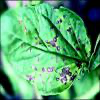Tomato leaf bacterial spot: (2, 6, 95, 96)
